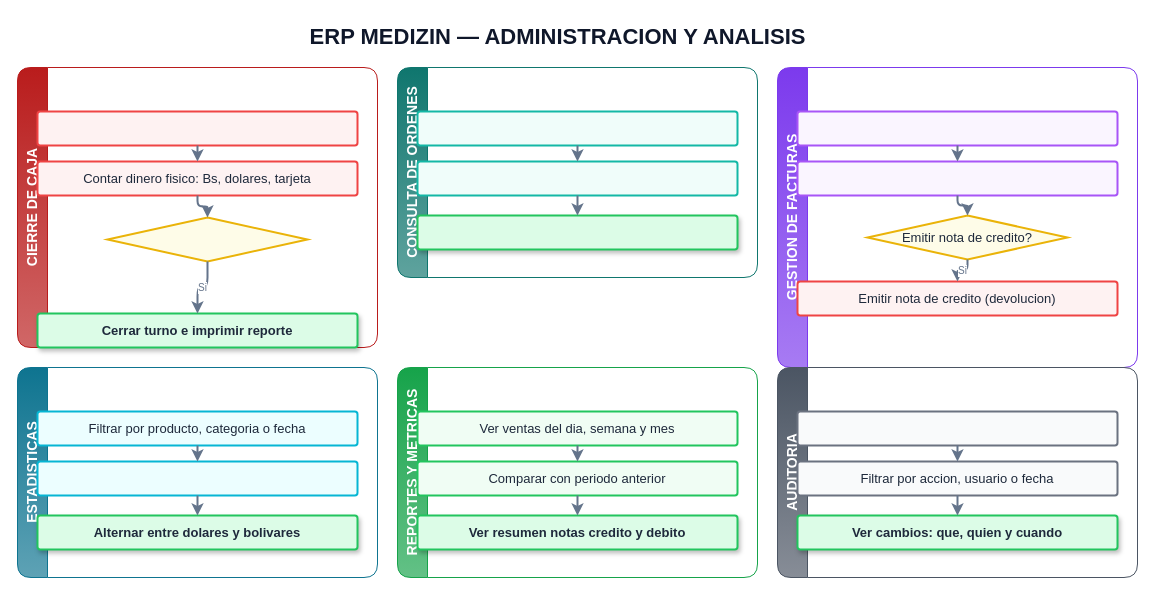
Image size: 1155x595. Some labels were removed from this diagram. Here are the shapes that lost their labels. From the top down, the centre of each, then its label:
At point (197, 128): "Revisar balance teorico del dia".
At point (577, 128): "Ver lista de todas las ordenes".
At point (957, 128): "Ver listado de facturas emitidas".
At point (577, 178): "Filtrar por fecha, estado o tipo de venta".
At point (957, 178): "Ver detalle: montos, IVA, pagos".
At point (207, 239): "Calcular diferencia vs sistema".
At point (578, 233): "Ver detalle y factura fiscal".
At point (957, 428): "Ver registro de todas las acciones".
At point (197, 478): "Ver productos vendidos e ingresos".
